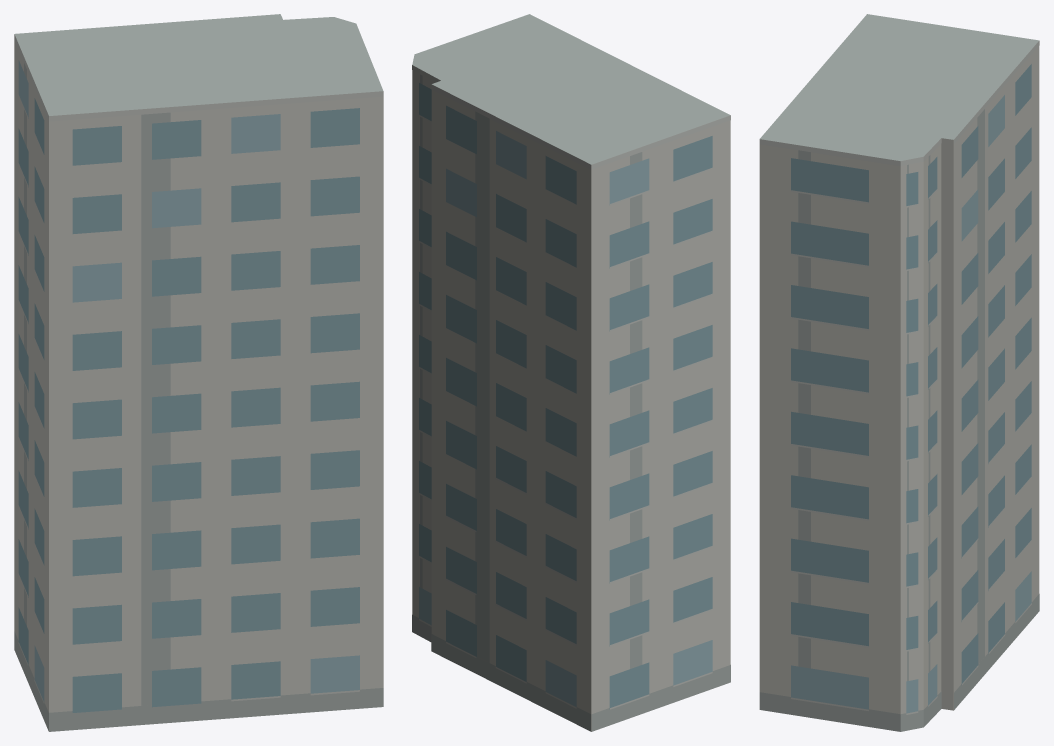
File: survey-upis-32917300.glb
3 views of the same model, side by side, from view 1: azimuth 30°, elevation 25°; view 2: azimuth 150°, elevation 25°; view 3: azimuth 270°, elevation 25° (orthographic). The views are drawn at different scales.
Visible parts, largest first — view 1: survey-upis-32917300.tmp; view 2: survey-upis-32917300.tmp; view 3: survey-upis-32917300.tmp.
Boxes of the visible parts, left/top/right/bottom form: survey-upis-32917300.tmp: left=14, top=14, right=383, bottom=731; survey-upis-32917300.tmp: left=412, top=14, right=730, bottom=731; survey-upis-32917300.tmp: left=759, top=14, right=1039, bottom=731.
Size of the model in its own units: 15.16 by 27.4 by 12.19.
